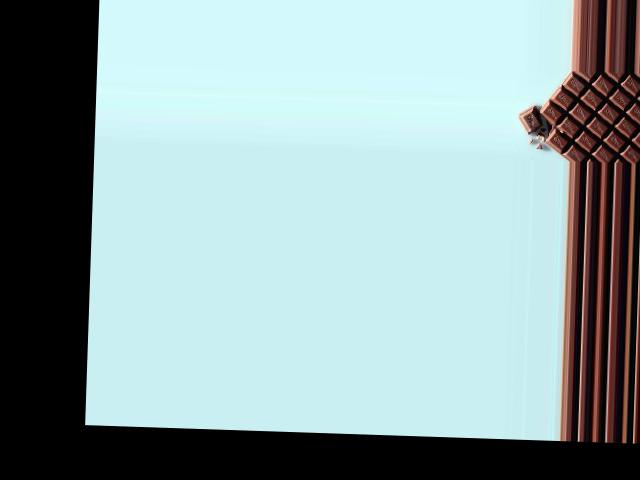chocolate: (530, 73, 640, 162)
